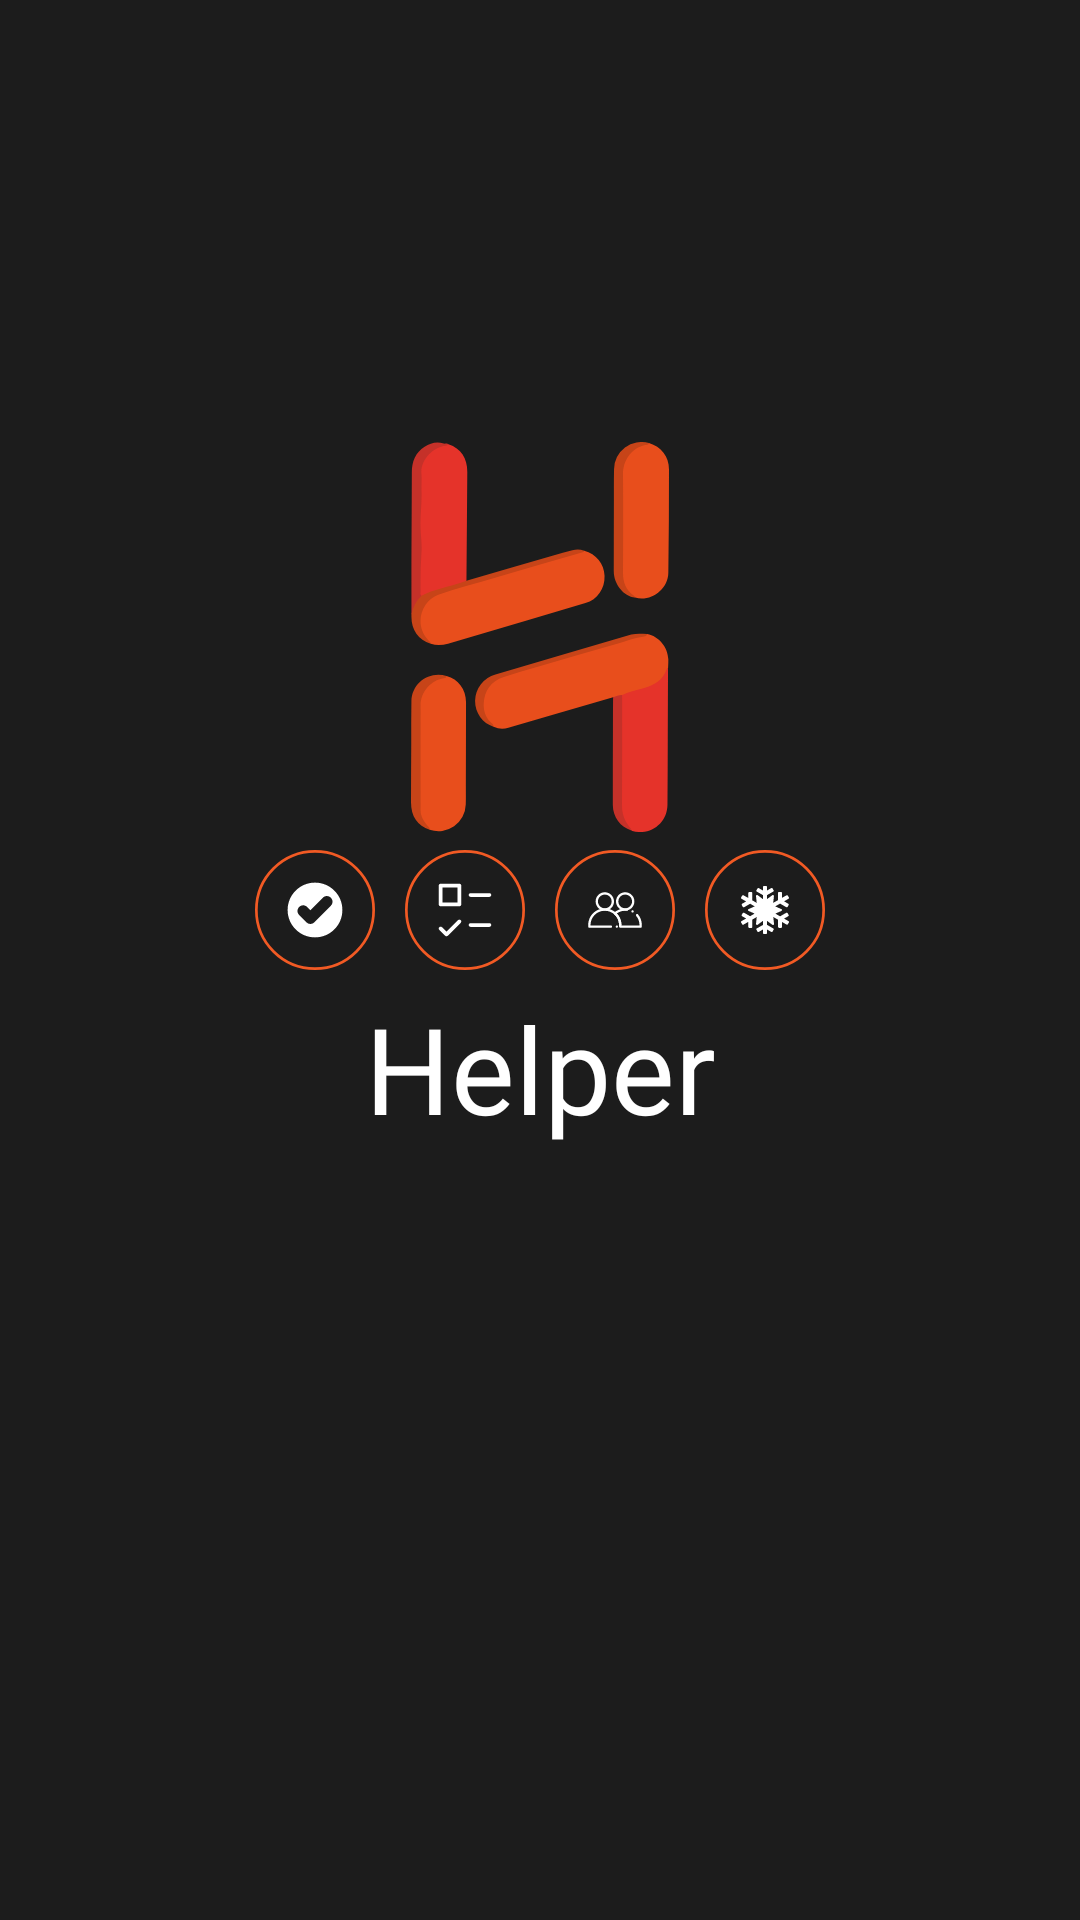

Screen size 1080*1920. Icon name, then its center in pixels as (x,y):
iconfinder check list: (465,910)
iconfinder contact user: (615,910)
iconfinder snowflake: (765,910)
iconfinder task done: (315,910)
